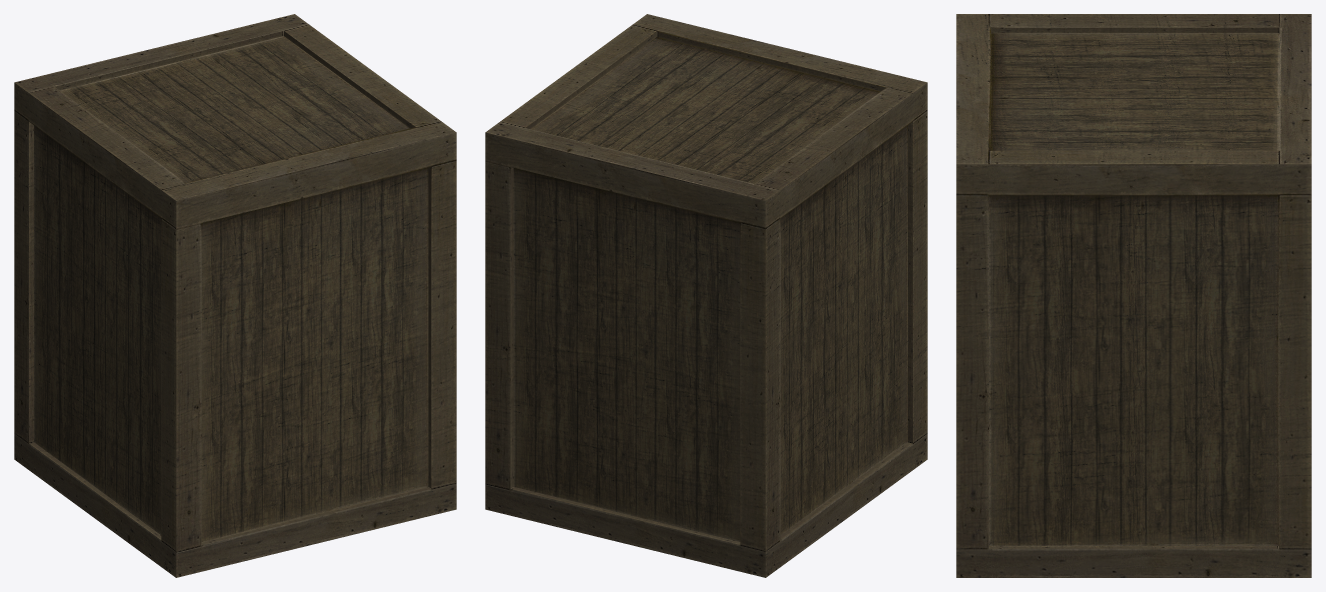
File: wooden_crate_hx_2.obj
The picture shows the model from 3 angles, left to right: view 1: azimuth 30°, elevation 25°; view 2: azimuth 150°, elevation 25°; view 3: azimuth 270°, elevation 25°; orthographic projection. The views are drawn at different scales.
Visible parts, largest first — view 1: wooden_crate_hx_2; view 2: wooden_crate_hx_2; view 3: wooden_crate_hx_2.
Boxes of the visible parts, bbox=[...] form: wooden_crate_hx_2: bbox=[14, 14, 456, 577]; wooden_crate_hx_2: bbox=[485, 14, 927, 577]; wooden_crate_hx_2: bbox=[956, 14, 1311, 577].
Bounding box in the file's own units: 1.4 × 1.8 × 1.4.
